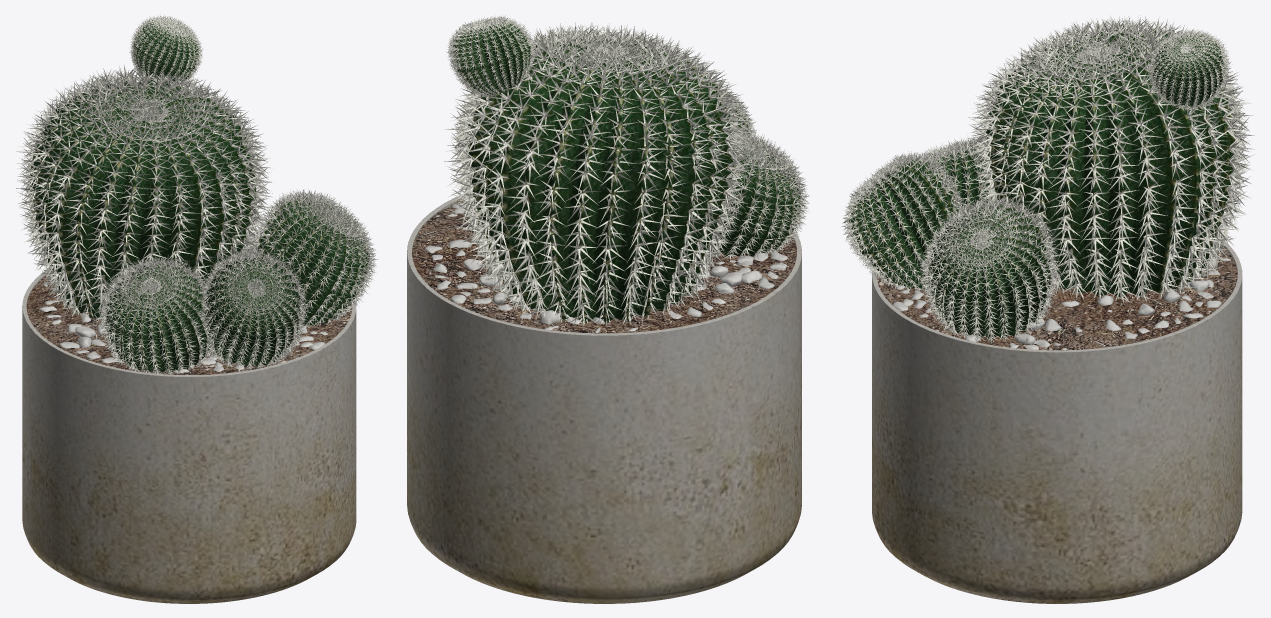
Rendered from cactus.fbx.
3 renders of one model, left to right at view 1: azimuth 30°, elevation 25°; view 2: azimuth 150°, elevation 25°; view 3: azimuth 270°, elevation 25°, orthographic. The views are drawn at different scales.
Parts seen in each view (by area): view 1: CactusFlowerpot, CactusLeafThorn, CactusFlesh, CactusSoil, CactusStones; view 2: CactusFlowerpot, CactusLeafThorn, CactusFlesh, CactusSoil, CactusStones; view 3: CactusFlowerpot, CactusLeafThorn, CactusFlesh, CactusSoil, CactusStones.
Part boxes in pixels (bbox=[...]): CactusFlowerpot: bbox=[22, 242, 356, 603]; CactusLeafThorn: bbox=[16, 15, 377, 374]; CactusFlesh: bbox=[28, 21, 369, 372]; CactusSoil: bbox=[26, 247, 351, 374]; CactusStones: bbox=[39, 283, 350, 373]; CactusFlowerpot: bbox=[407, 194, 801, 603]; CactusLeafThorn: bbox=[444, 15, 809, 325]; CactusFlesh: bbox=[453, 21, 800, 323]; CactusSoil: bbox=[412, 199, 796, 333]; CactusStones: bbox=[424, 202, 787, 332]; CactusFlowerpot: bbox=[872, 240, 1242, 603]; CactusLeafThorn: bbox=[841, 15, 1254, 343]; CactusFlesh: bbox=[849, 29, 1236, 338]; CactusSoil: bbox=[876, 242, 1237, 350]; CactusStones: bbox=[892, 255, 1230, 350].
Size of what is drawn, in the model's own units: 23.97 by 26.24 by 36.13.
